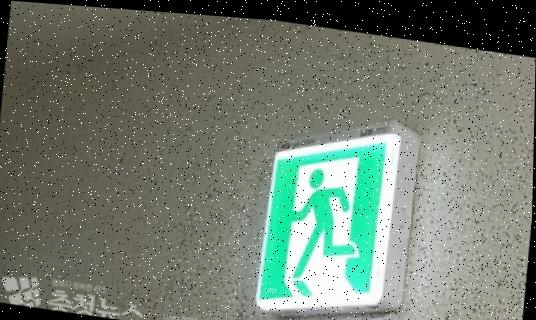emergency_exit: (255, 132, 402, 312)
